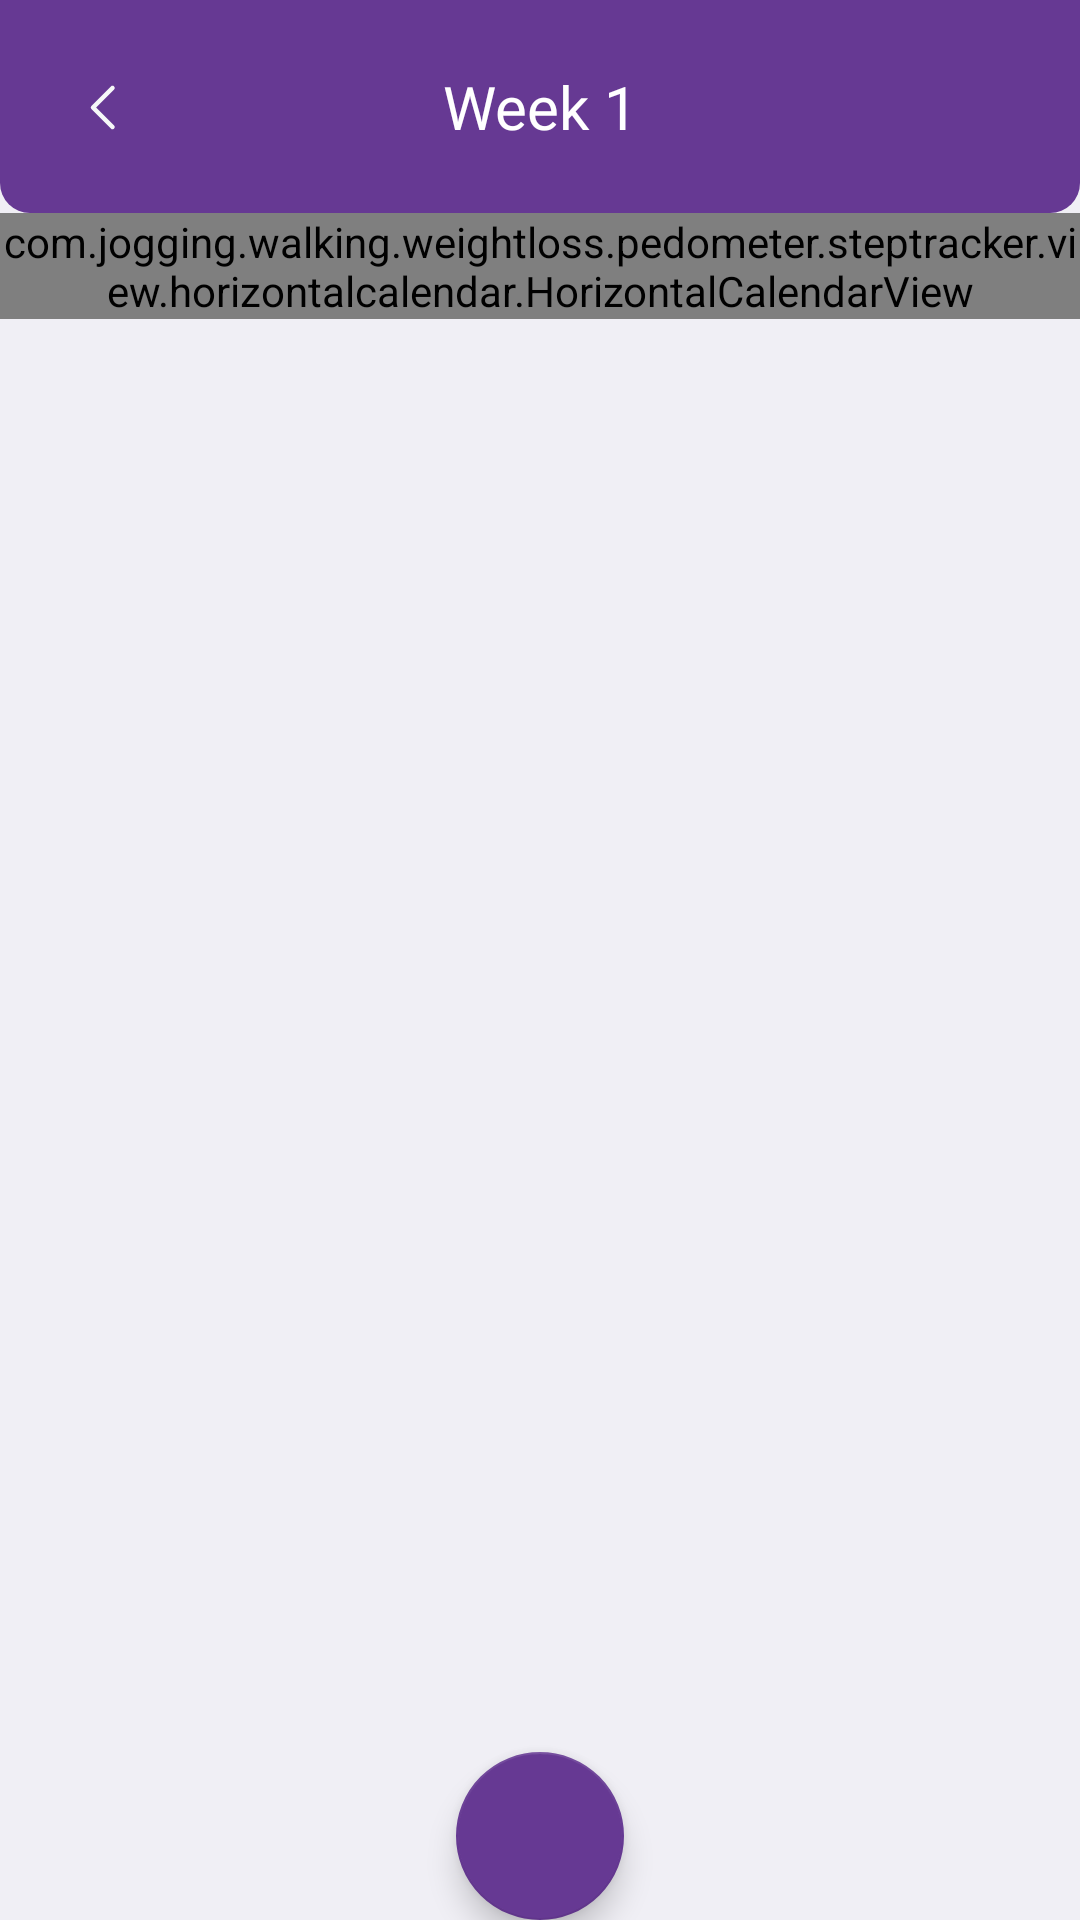

Icon bounding boxes for this 1080px x 1920px phone screenshot, format bbox(x1, y1, x2, y2):
back: bbox(90, 85, 115, 130)
